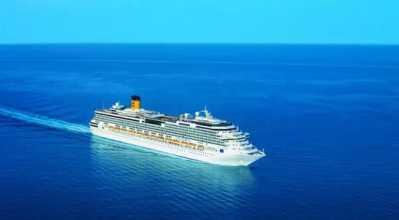youlun: (78, 92, 271, 170)
